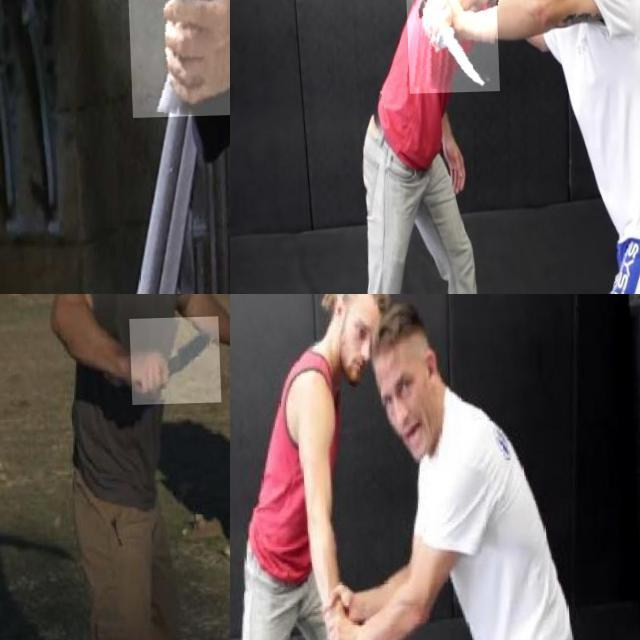-: (404, 0, 497, 95), (126, 318, 218, 406)
gun-knife-thesis - v11 Yolov5 augmented: (123, 0, 230, 119)
